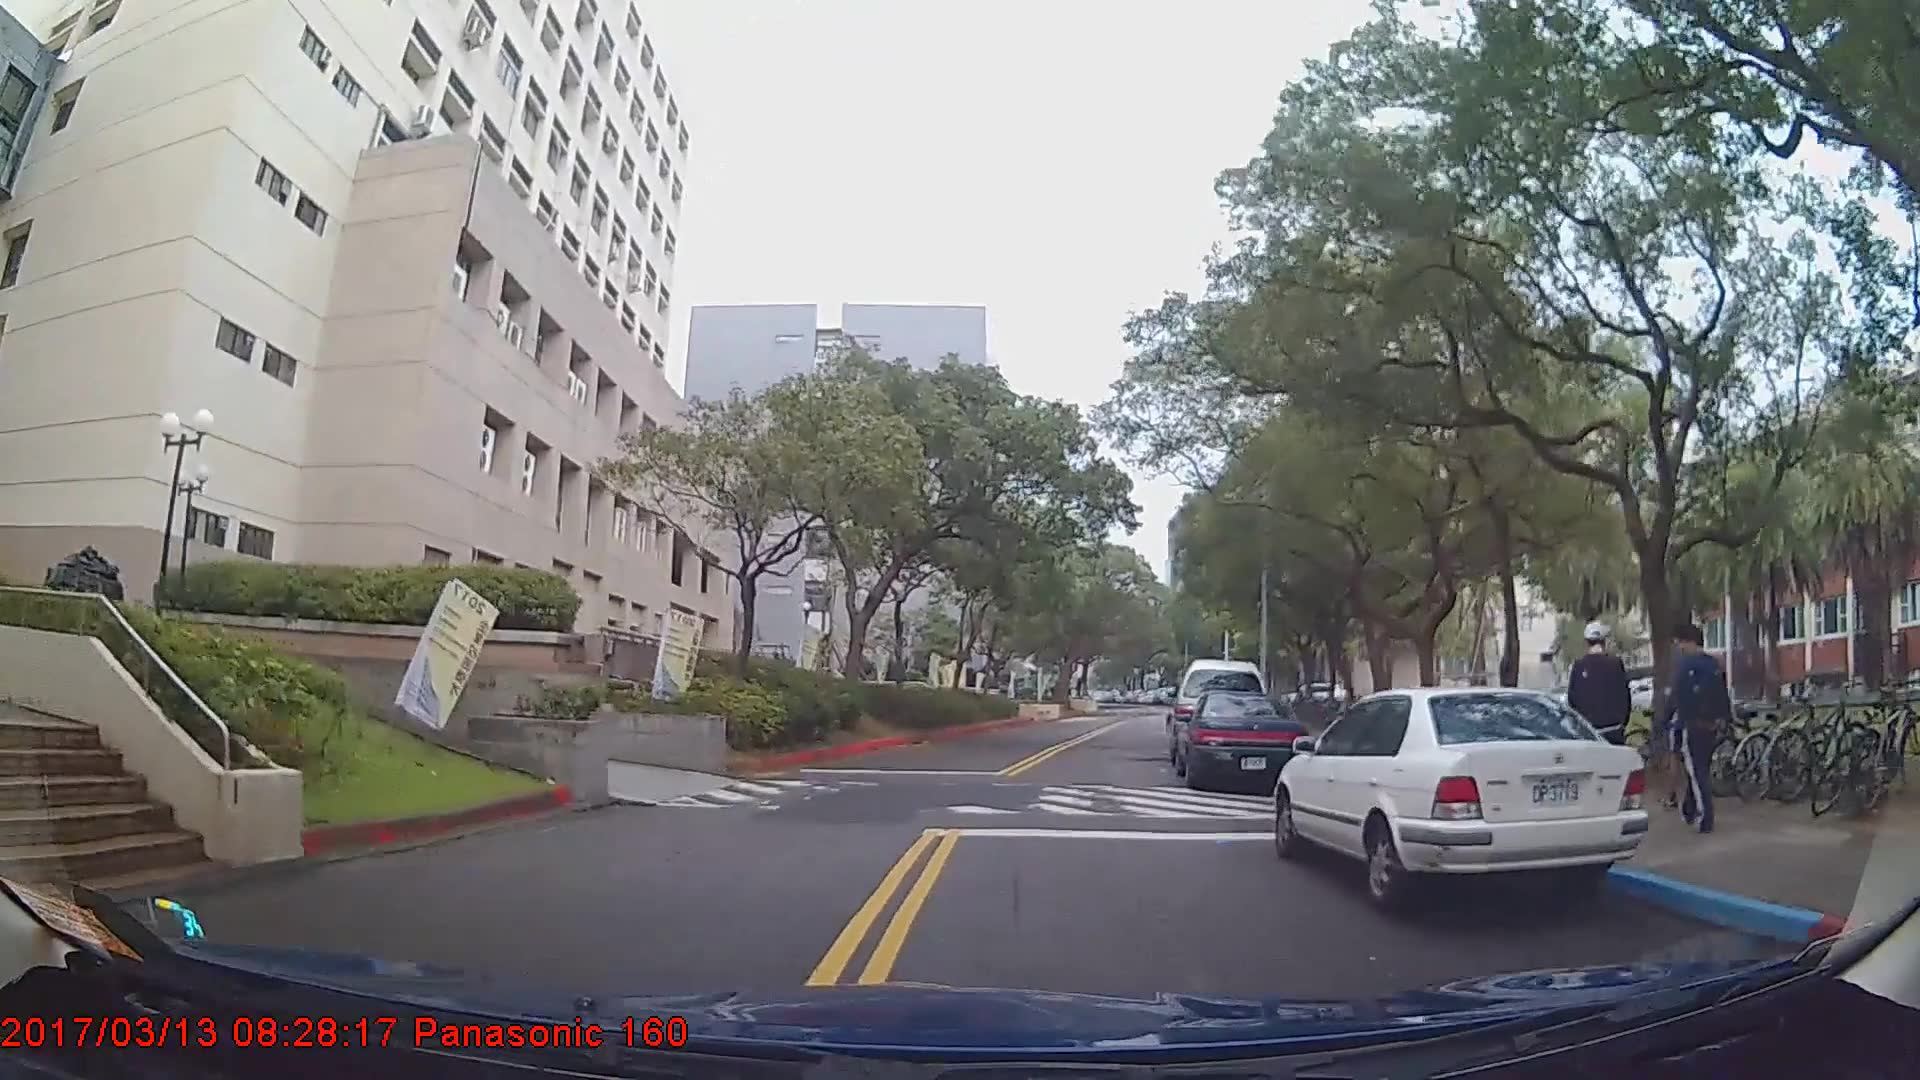pedestrian: (1667, 627, 1731, 832), (1572, 624, 1633, 821)
vehicle: (1272, 687, 1648, 920), (1174, 689, 1308, 790)
